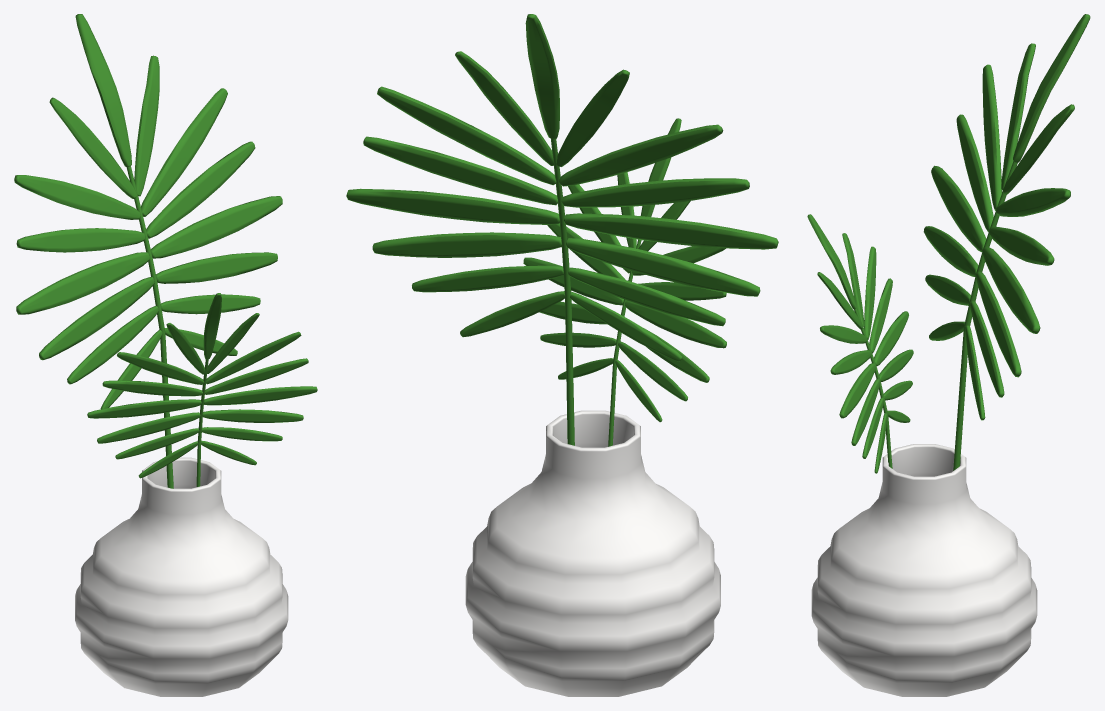
Rendered from Plant_Vase_with_plant_2.glb.
The picture shows the model from 3 angles, left to right: view 1: azimuth 30°, elevation 25°; view 2: azimuth 150°, elevation 25°; view 3: azimuth 270°, elevation 25°; orthographic projection. The views are drawn at different scales.
Visible parts, largest first — view 1: Vase_with_plant_2; view 2: Vase_with_plant_2; view 3: Vase_with_plant_2.
Boxes of the visible parts, x1,y1,x2,y2 form: Vase_with_plant_2: [14, 14, 317, 696]; Vase_with_plant_2: [346, 14, 778, 696]; Vase_with_plant_2: [807, 14, 1090, 696].
Bounding box in the file's own units: 0.7339 × 1.35 × 0.5437.
Materials: 2 (2 with a texture image).
